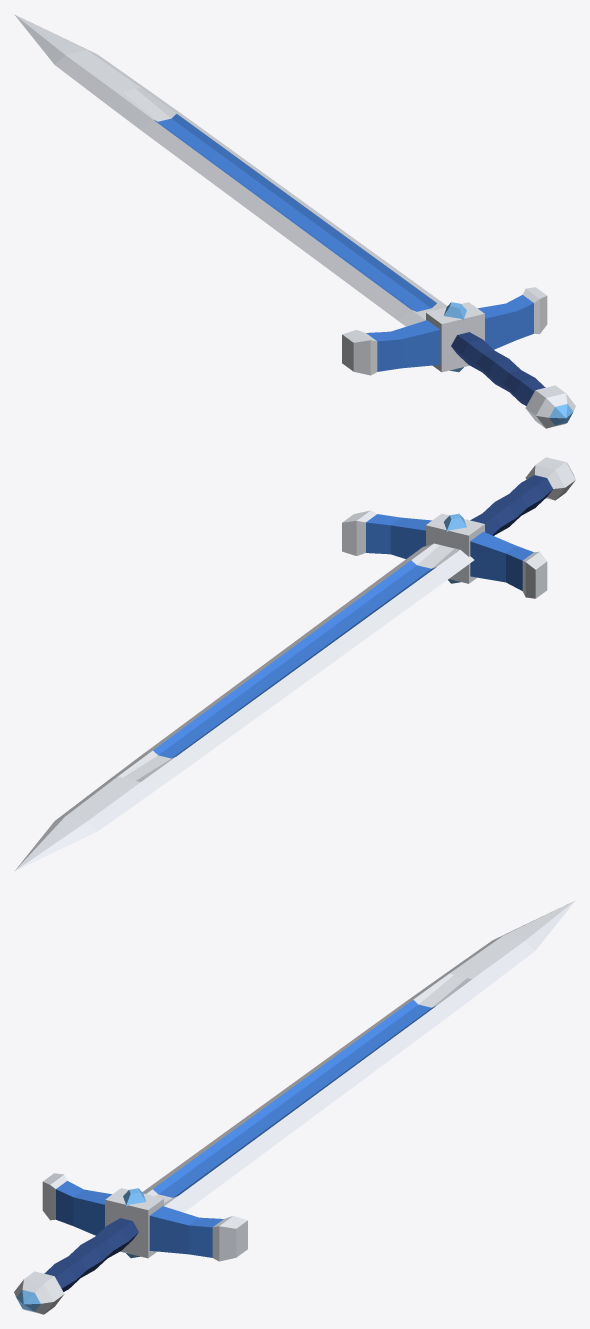
Rendered from blade_rare.glb.
3 renders of one model, top to bottom at view 1: azimuth 30°, elevation 25°; view 2: azimuth 150°, elevation 25°; view 3: azimuth 330°, elevation 25°, orthographic.
Visible parts, largest first — view 1: blade_rare; view 2: blade_rare; view 3: blade_rare.
Boxes of the visible parts, box(x1,y1,x2,y2) form: blade_rare: box(14, 14, 575, 428); blade_rare: box(14, 457, 575, 871); blade_rare: box(14, 900, 575, 1314).
Size of the model in its own units: 0.252 by 0.08 by 1.25.
